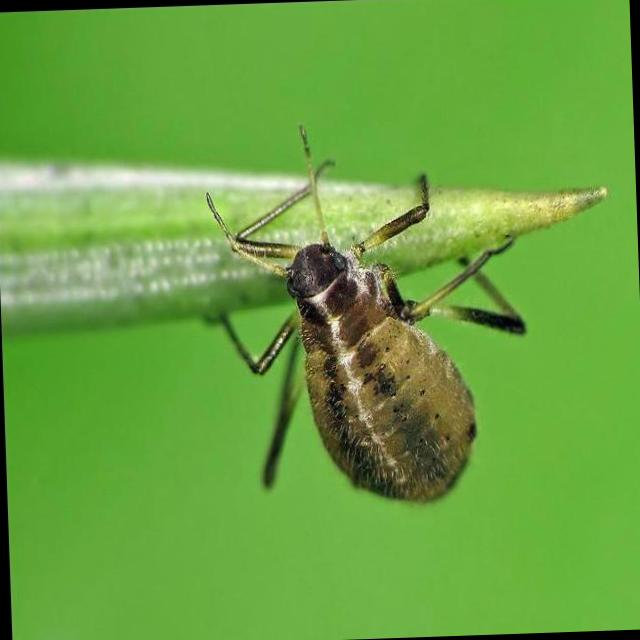aphid: (183, 161, 540, 508)
